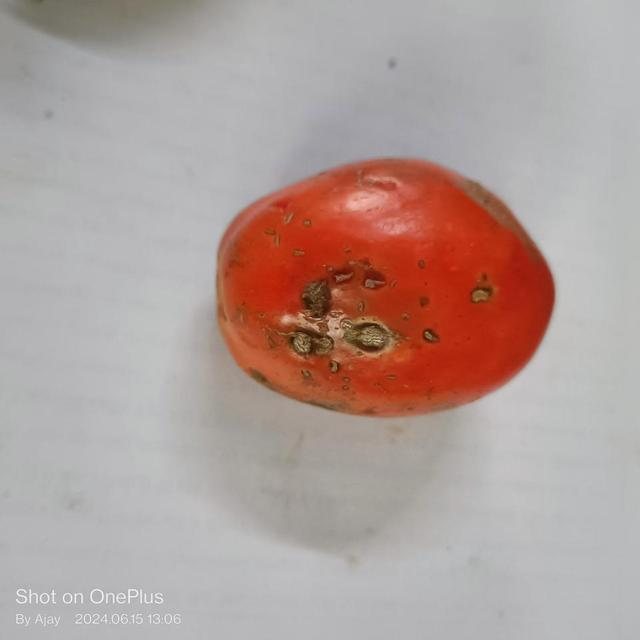Bacterial Spot Fruit: (10, 18, 320, 224)
